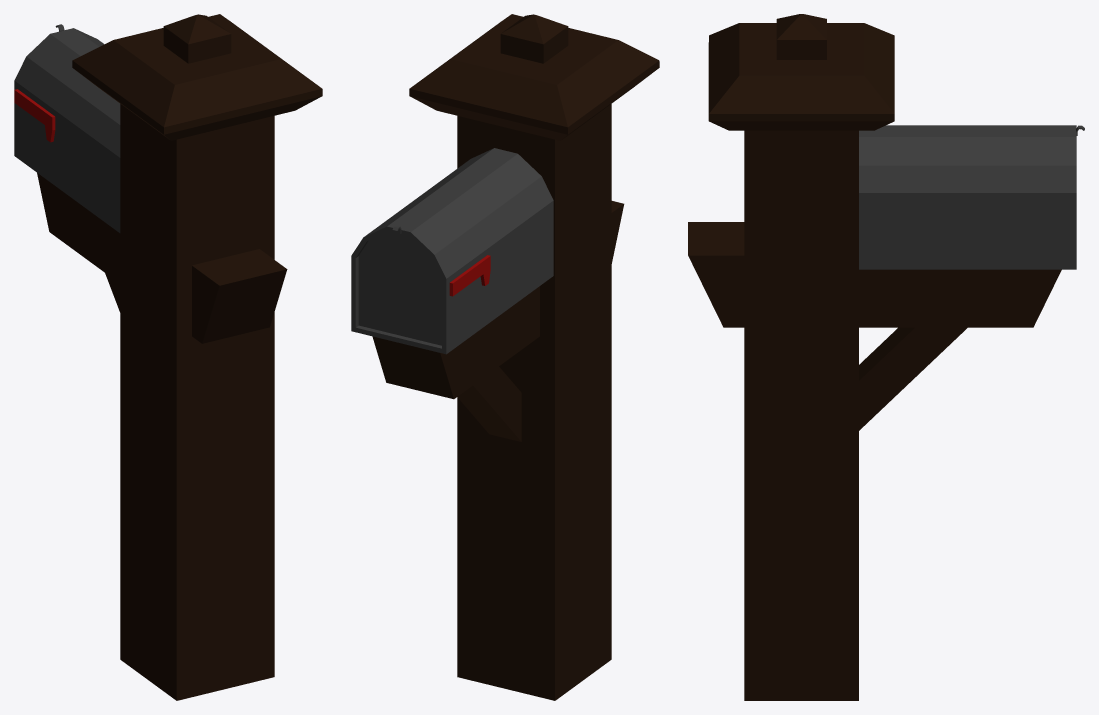
File: Mailbox.obj
3 renders of one model, left to right at view 1: azimuth 30°, elevation 25°; view 2: azimuth 150°, elevation 25°; view 3: azimuth 270°, elevation 25°, orthographic.
Parts seen in each view (by area): view 1: Cube; view 2: Cube; view 3: Cube.
Boxes of the visible parts, box(x1,y1,x2,y2) form: Cube: box(14, 14, 322, 700); Cube: box(351, 14, 659, 700); Cube: box(688, 14, 1084, 700).
Bounding box in the file's own units: 0.8975 × 3.53 × 1.92.
